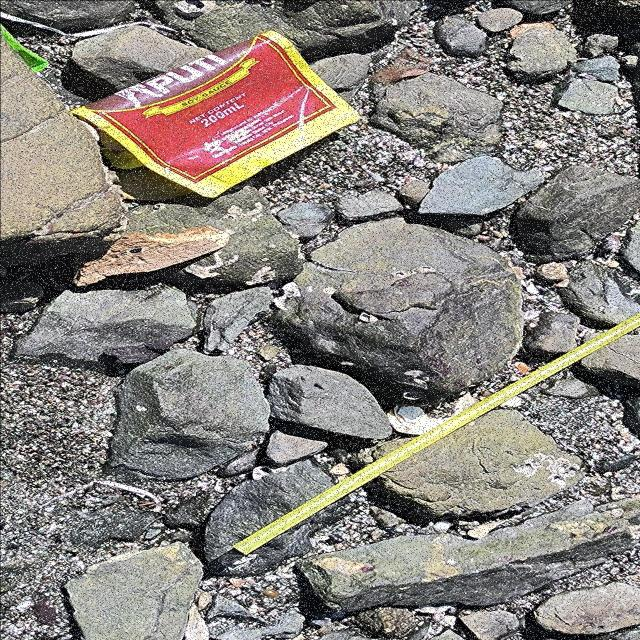plastic_waste: (231, 317, 640, 557), (68, 30, 362, 199)
